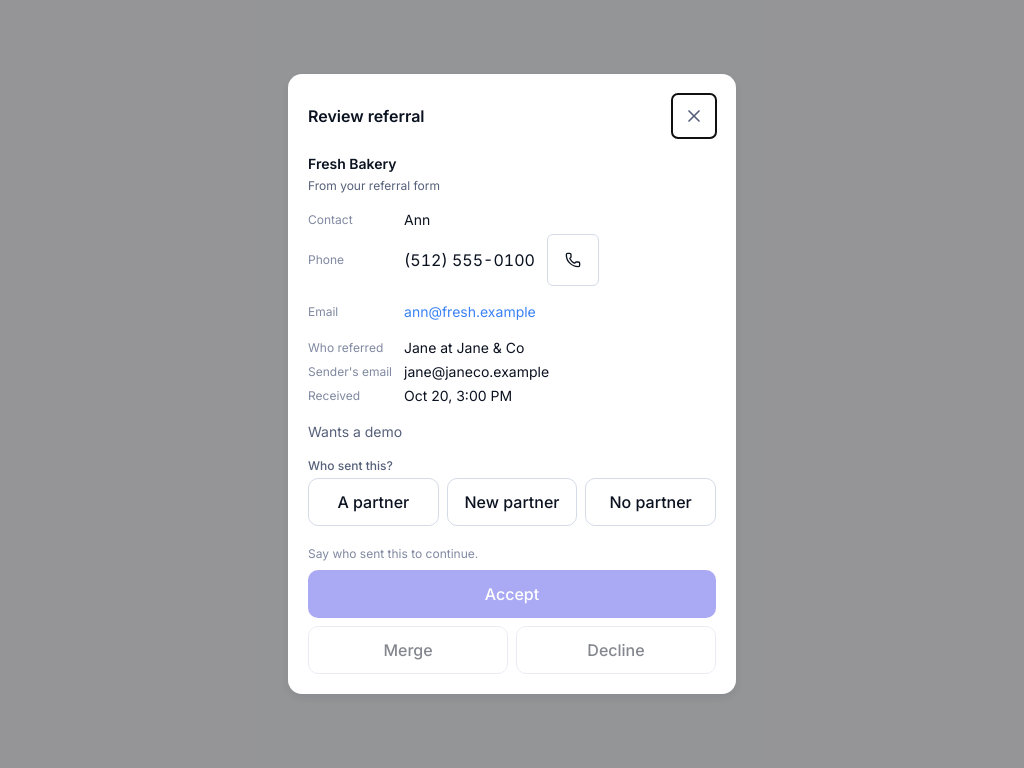
Test: ReviewFormSubmissionSheet › locks the who-toggle and new partner fields once the partner is created
Click the button "New partner".
click(512, 502)  # box [447,478,577,526]
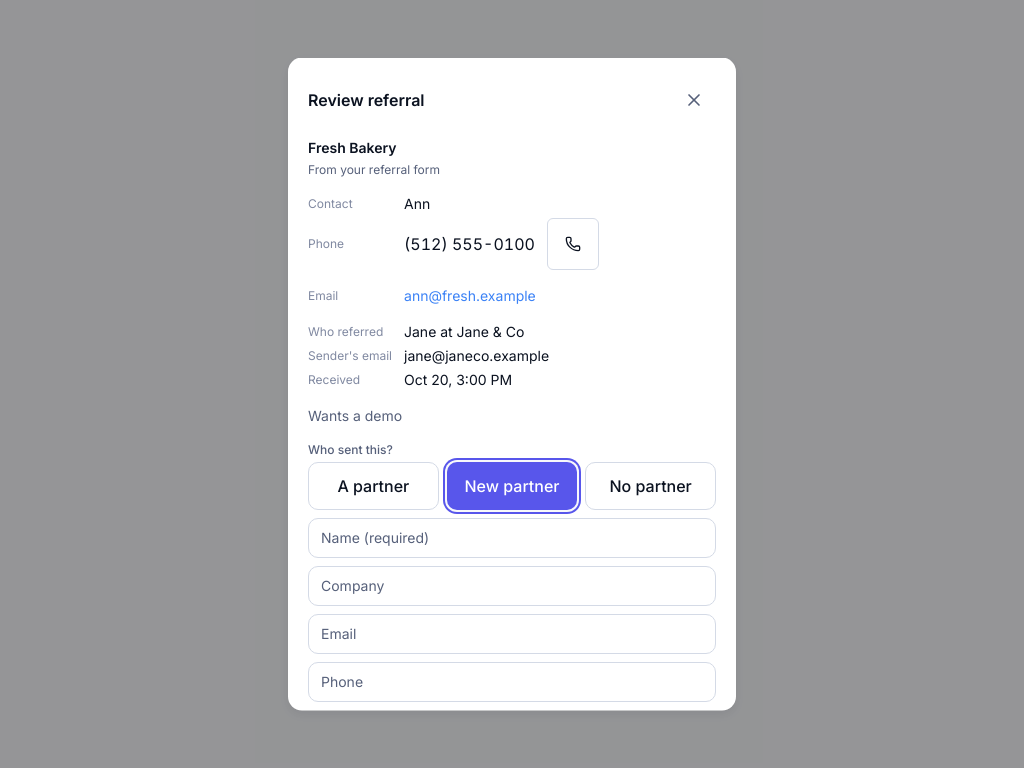
Type "Pat" into the field named "Partner name".
click(512, 538); type("Pat")  # box [321,528,703,548]
(page scrolled)
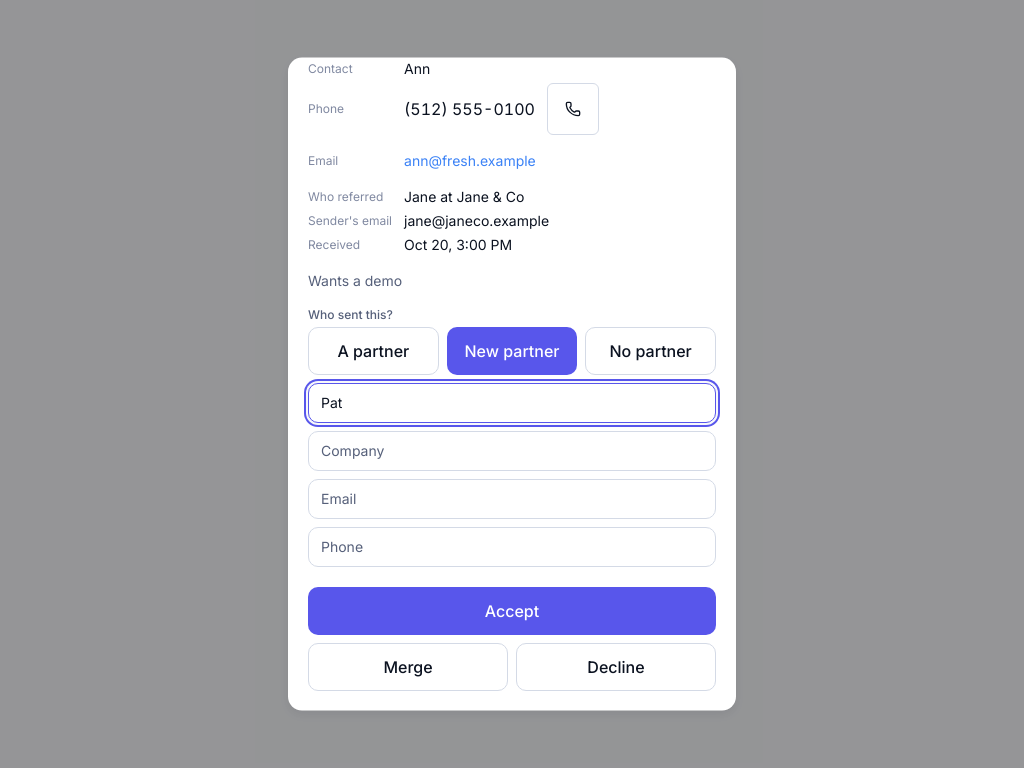
Click the button "Accept".
click(512, 611)  # box [308,587,716,635]
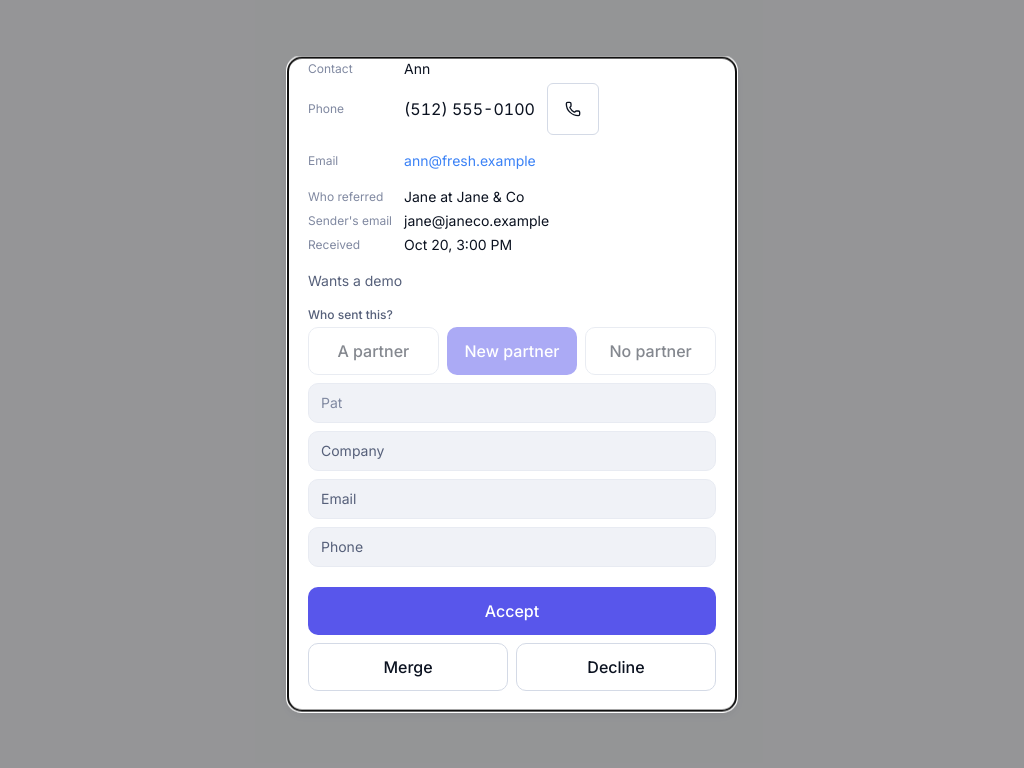
Check: the field named "Partner name" is disabled, box [321,393,703,413]
Check: the button "No partner" is disabled, box [585,327,716,375]
